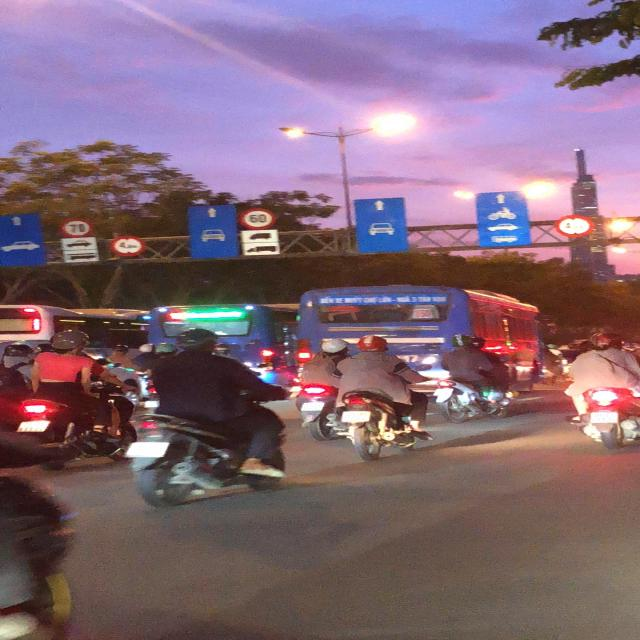Bien bao han che chieu cao: (552, 213, 596, 240), (110, 233, 146, 259)
Bien bao toc do toi da cho phep: (234, 206, 276, 230), (59, 219, 95, 239)
